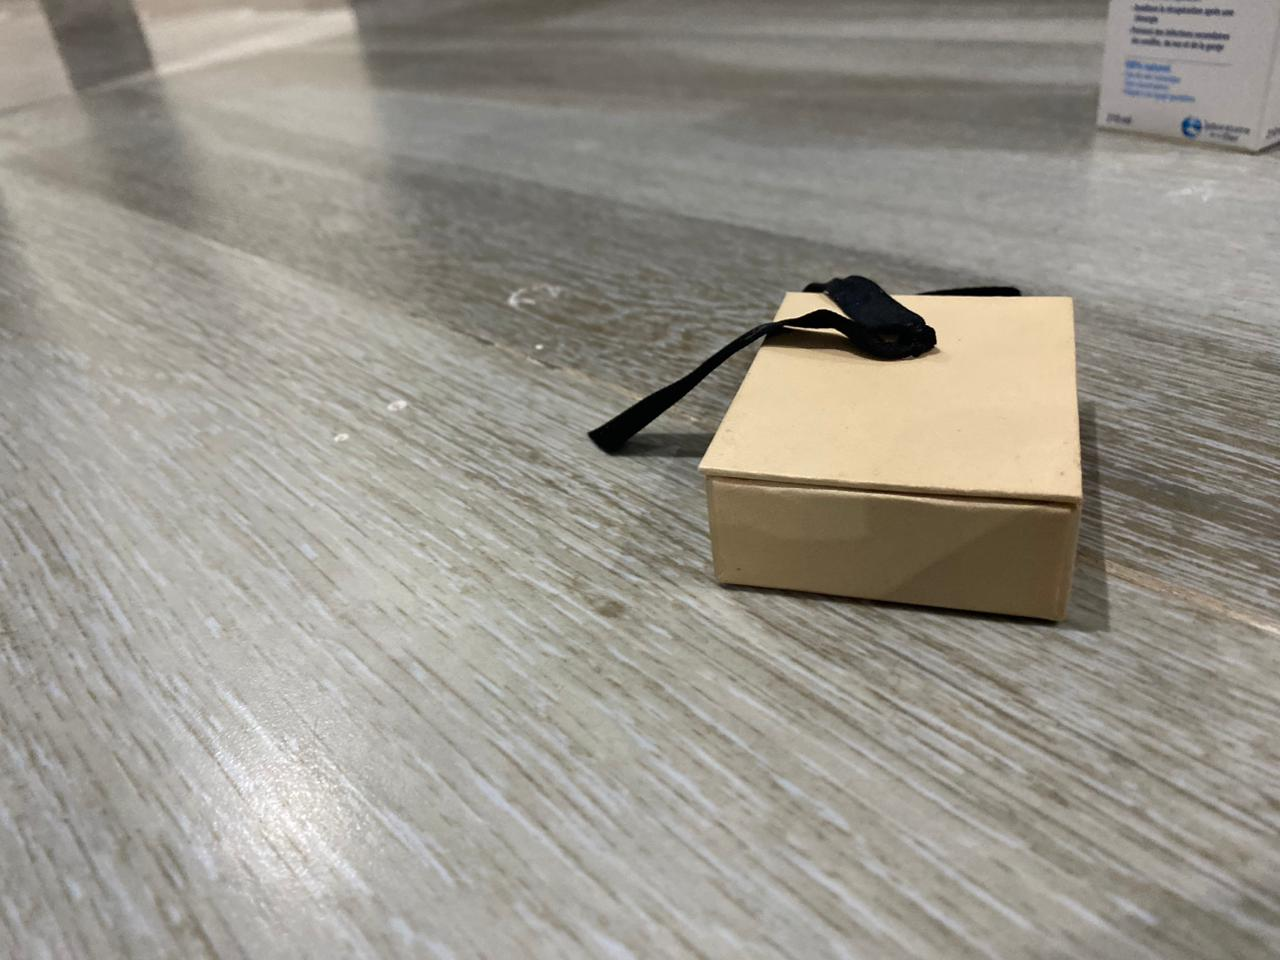Physiomer: (1098, 2, 1280, 166)
Yellow Box: (697, 289, 1101, 630)
